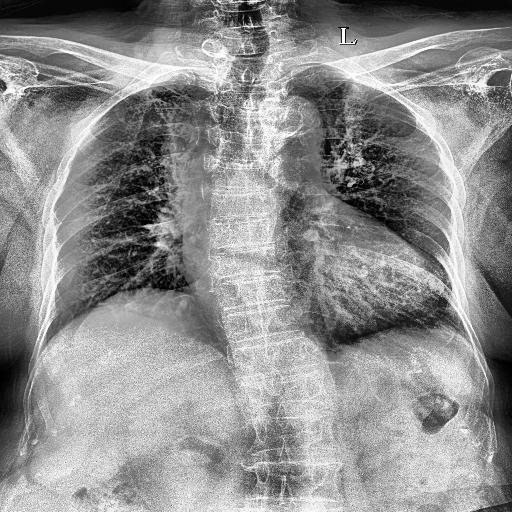0- Aortic enlargement: (190, 91, 336, 171), (208, 92, 326, 168), (266, 90, 328, 170)
2- Calcification: (49, 258, 81, 290)
3- Cardiomegaly: (182, 188, 462, 349), (168, 231, 456, 334), (160, 234, 452, 335)
5- ILD: (341, 96, 442, 214)
9- Other lesion: (164, 144, 316, 341), (170, 190, 282, 220)
